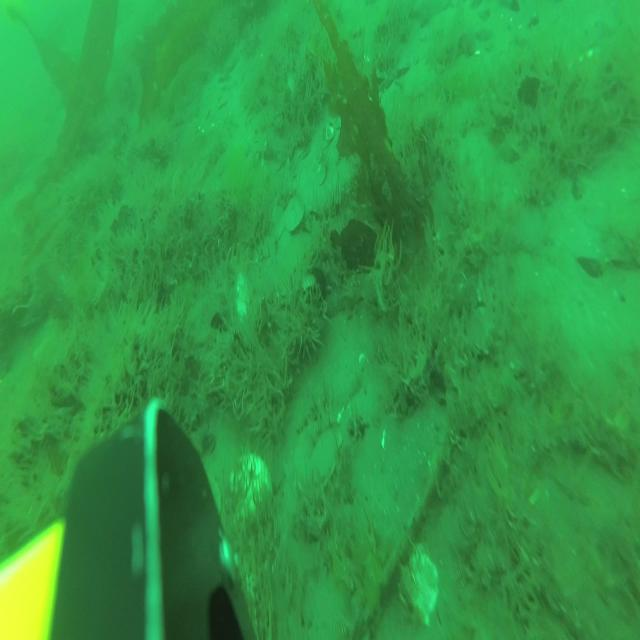scallop: (402, 541, 441, 624), (230, 454, 274, 525), (294, 423, 336, 494), (234, 274, 252, 328)
